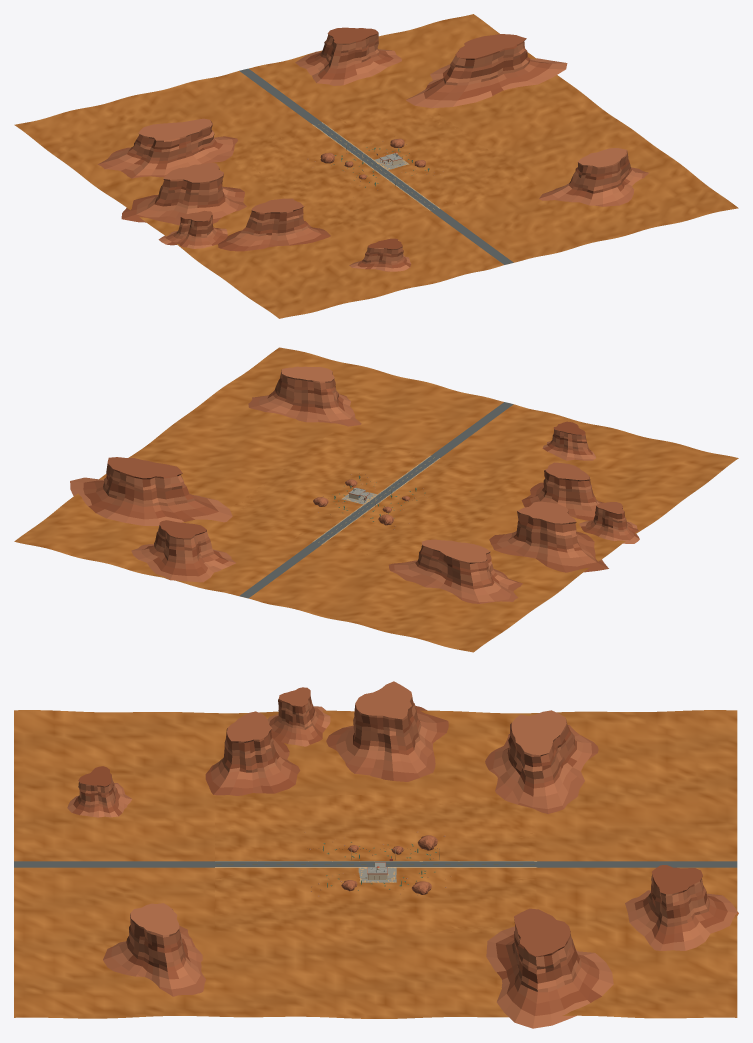
The model's file is station-polish.fbx.
3 renders of one model, top to bottom at view 1: azimuth 30°, elevation 25°; view 2: azimuth 150°, elevation 25°; view 3: azimuth 270°, elevation 25°, orthographic. The views are drawn at different scales.
Visible parts, largest first — view 1: GEO-distant_terrain, GEO-sand_ground, GEO-weathered_mesa.006, GEO-weathered_mesa.002, GEO-weathered_mesa.001, GEO-weathered_mesa.005, GEO-weathered_mesa.003, GEO-weathered_mesa, GEO-asphalt_road, GEO-weathered_mesa.007, GEO-weathered_mesa.004; view 2: GEO-distant_terrain, GEO-sand_ground, GEO-weathered_mesa.006, GEO-weathered_mesa.002, GEO-weathered_mesa.001, GEO-weathered_mesa.003, GEO-weathered_mesa.005, GEO-weathered_mesa, GEO-asphalt_road, GEO-weathered_mesa.007, GEO-weathered_mesa.004; view 3: GEO-distant_terrain, GEO-sand_ground, GEO-weathered_mesa.006, GEO-weathered_mesa.001, GEO-weathered_mesa.002, GEO-weathered_mesa.005, GEO-weathered_mesa.003, GEO-weathered_mesa, GEO-asphalt_road, GEO-weathered_mesa.007, GEO-weathered_mesa.004.
Boxes of the visible parts, box(x1,y1,x2,y2) form: GEO-distant_terrain: box(14, 14, 738, 318); GEO-sand_ground: box(228, 101, 537, 234); GEO-weathered_mesa.006: box(406, 34, 567, 108); GEO-weathered_mesa.002: box(97, 118, 237, 178); GEO-weathered_mesa.001: box(121, 163, 246, 225); GEO-weathered_mesa.005: box(295, 27, 401, 85); GEO-weathered_mesa.003: box(539, 148, 648, 206); GEO-weathered_mesa: box(218, 198, 330, 251); GEO-asphalt_road: box(239, 68, 513, 264); GEO-weathered_mesa.007: box(158, 210, 227, 248); GEO-weathered_mesa.004: box(349, 238, 411, 271); GEO-distant_terrain: box(14, 347, 738, 652); GEO-sand_ground: box(228, 432, 536, 562); GEO-weathered_mesa.006: box(70, 457, 232, 525); GEO-weathered_mesa.002: box(388, 539, 522, 603); GEO-weathered_mesa.001: box(489, 501, 608, 572); GEO-weathered_mesa.003: box(248, 366, 361, 426); GEO-weathered_mesa.005: box(131, 520, 235, 582); GEO-weathered_mesa: box(521, 462, 604, 520); GEO-asphalt_road: box(239, 402, 513, 598); GEO-weathered_mesa.007: box(579, 502, 639, 543); GEO-weathered_mesa.004: box(542, 421, 596, 460); GEO-distant_terrain: box(14, 710, 737, 1018); GEO-sand_ground: box(215, 795, 536, 933); GEO-weathered_mesa.006: box(486, 908, 613, 1028); GEO-weathered_mesa.001: box(326, 681, 448, 781); GEO-weathered_mesa.002: box(485, 710, 598, 813); GEO-weathered_mesa.005: box(625, 865, 738, 950); GEO-weathered_mesa.003: box(103, 903, 205, 996); GEO-weathered_mesa: box(205, 711, 300, 795); GEO-asphalt_road: box(14, 861, 737, 867); GEO-weathered_mesa.007: box(267, 687, 330, 746); GEO-weathered_mesa.004: box(67, 766, 132, 817).
Size of the model in its own units: 386 by 28.07 by 361.
